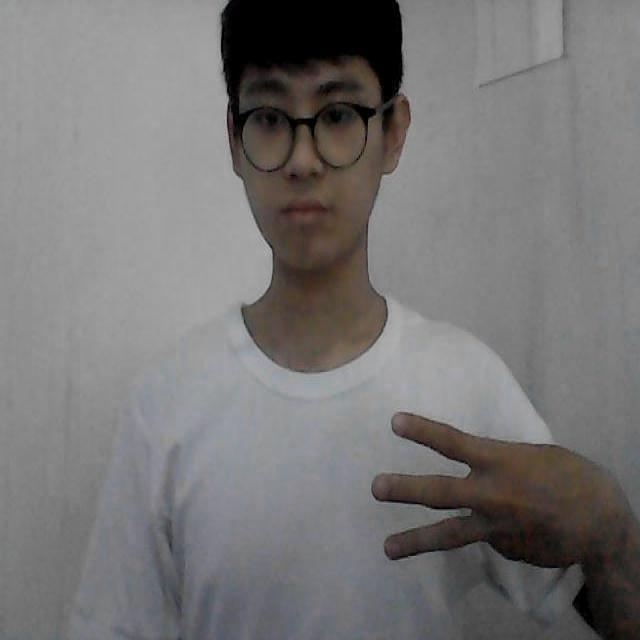E: (369, 398, 626, 586)
